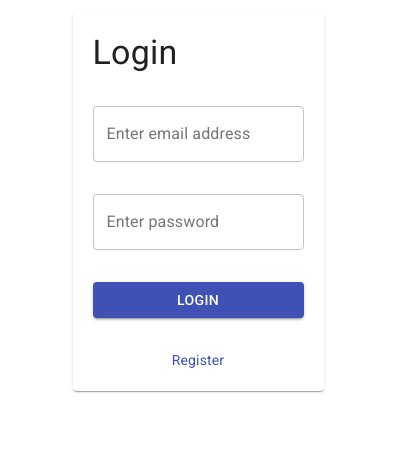
Test: Login test › should show email and password invalid message
Type "wrog" into the password field labelled "Enter password". click: (198, 222)
box: [92,194,304,250]
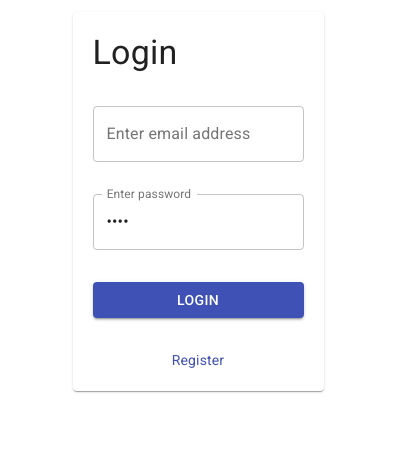
Type "invalid" into the field labelled "Enter email address". click: (198, 134)
box: [92,106,304,162]
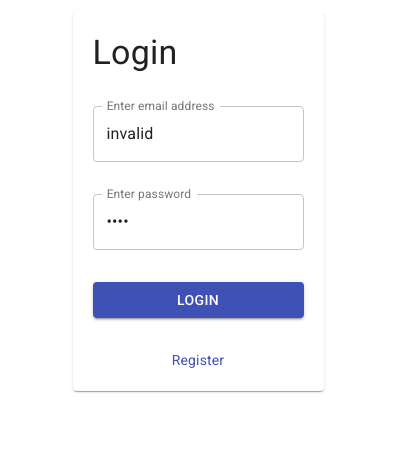
Submit the form from the heading "Login", box [92,32,178,72]
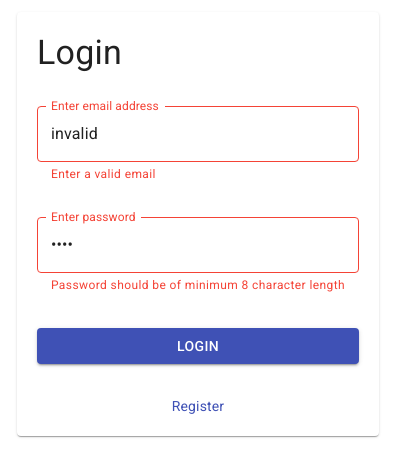
Check: the text "Enter a valid email" is shown, box [51,167,156,181]
Check: the text "Password should be of minimum 8 character length" is shown, box [51,276,345,296]
